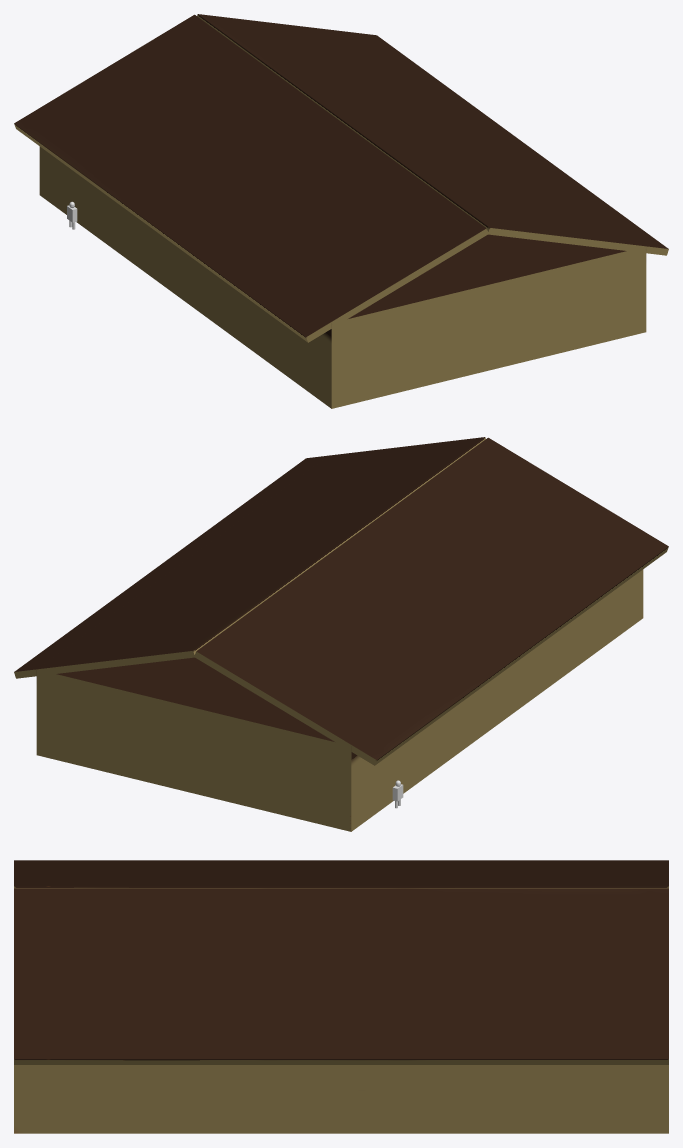
The model's file is house_1.gltf.
The picture shows the model from 3 angles, top to bottom: view 1: azimuth 30°, elevation 25°; view 2: azimuth 150°, elevation 25°; view 3: azimuth 270°, elevation 25°; orthographic projection. The views are drawn at different scales.
Parts seen in each view (by area): view 1: Cube.001; view 2: Cube.001; view 3: Cube.001.
Boxes of the visible parts, box(x1,y1,x2,y2) form: Cube.001: box(14, 14, 668, 408); Cube.001: box(14, 437, 668, 831); Cube.001: box(14, 860, 668, 1133).
Size of the model in its own units: 26.54 by 10.11 by 37.
Materials: 2 (1 with a texture image).
